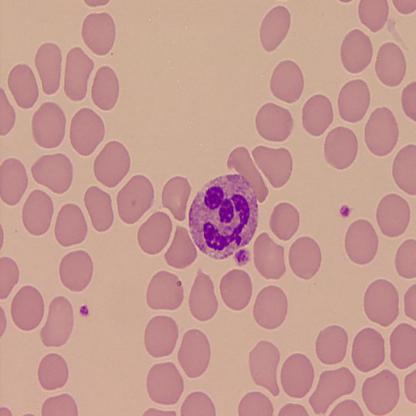Segmented neutrophil: (186, 170, 260, 269)
